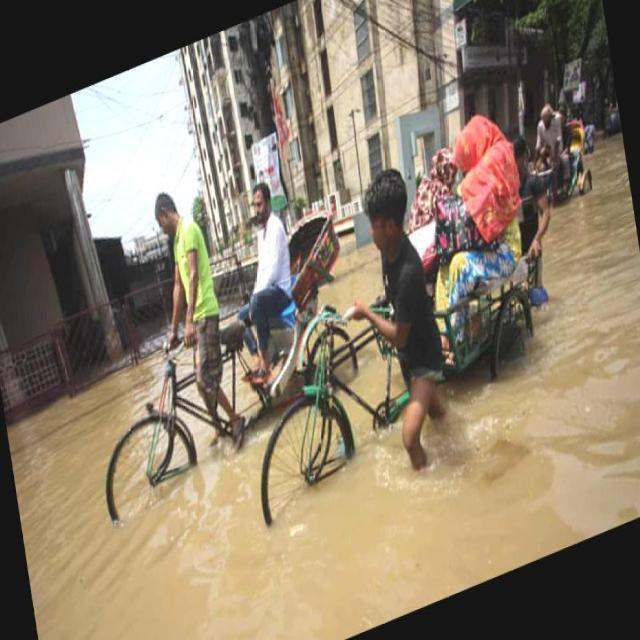flood: (2, 136, 640, 639)
